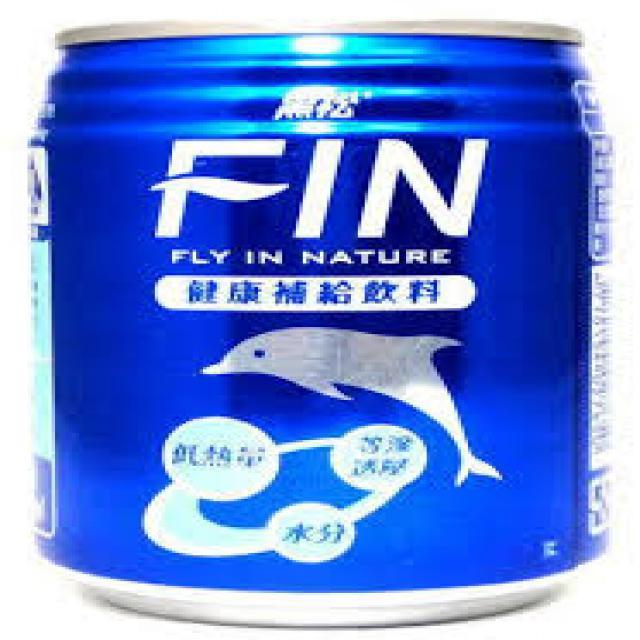recyclable: (24, 21, 608, 632)
